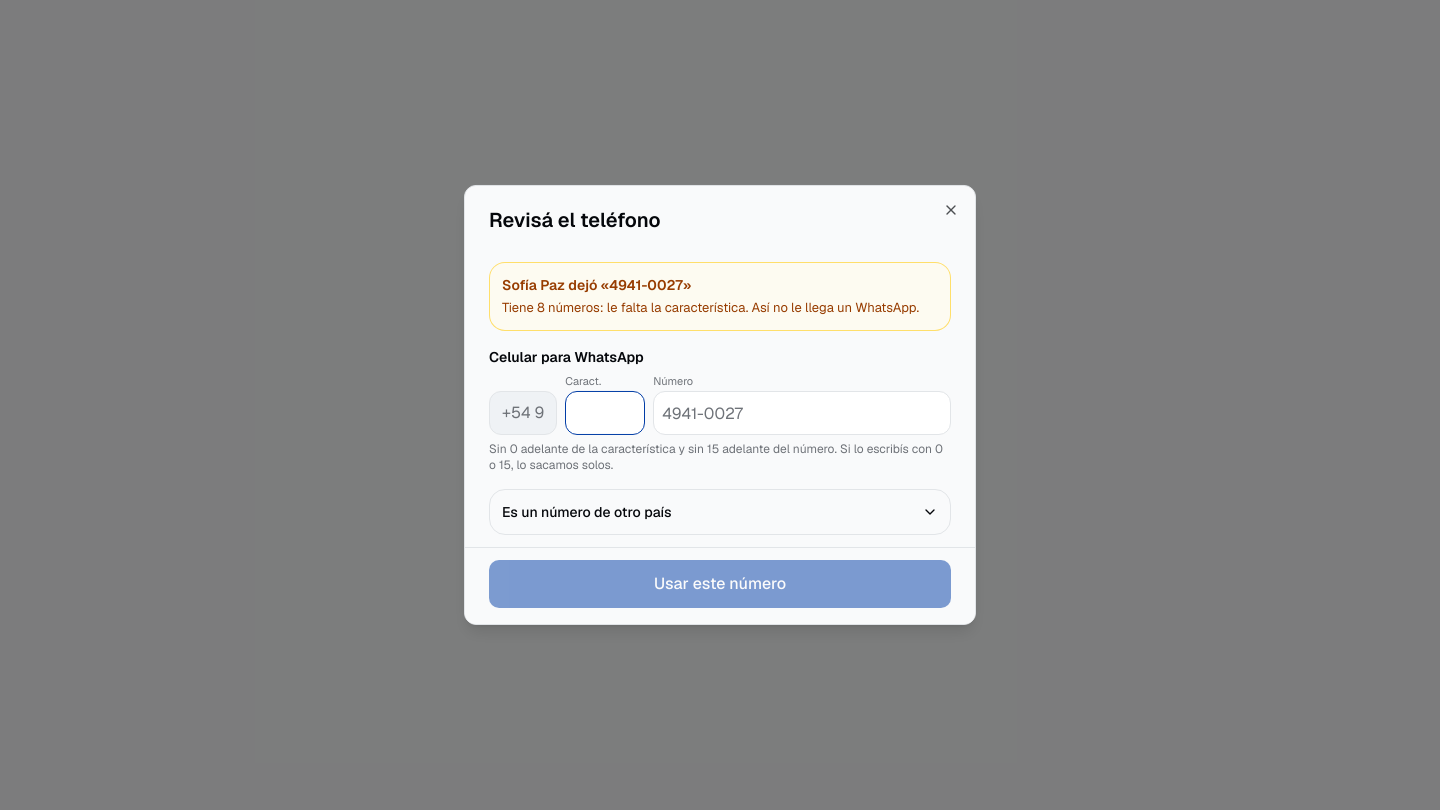
it: AgendarDesdeConsulta › número de otro país: solo se acepta empezando con +
The image size is (1440, 810).
Click the button "Es un número de otro país" at (587, 512), box [490, 490, 950, 534]
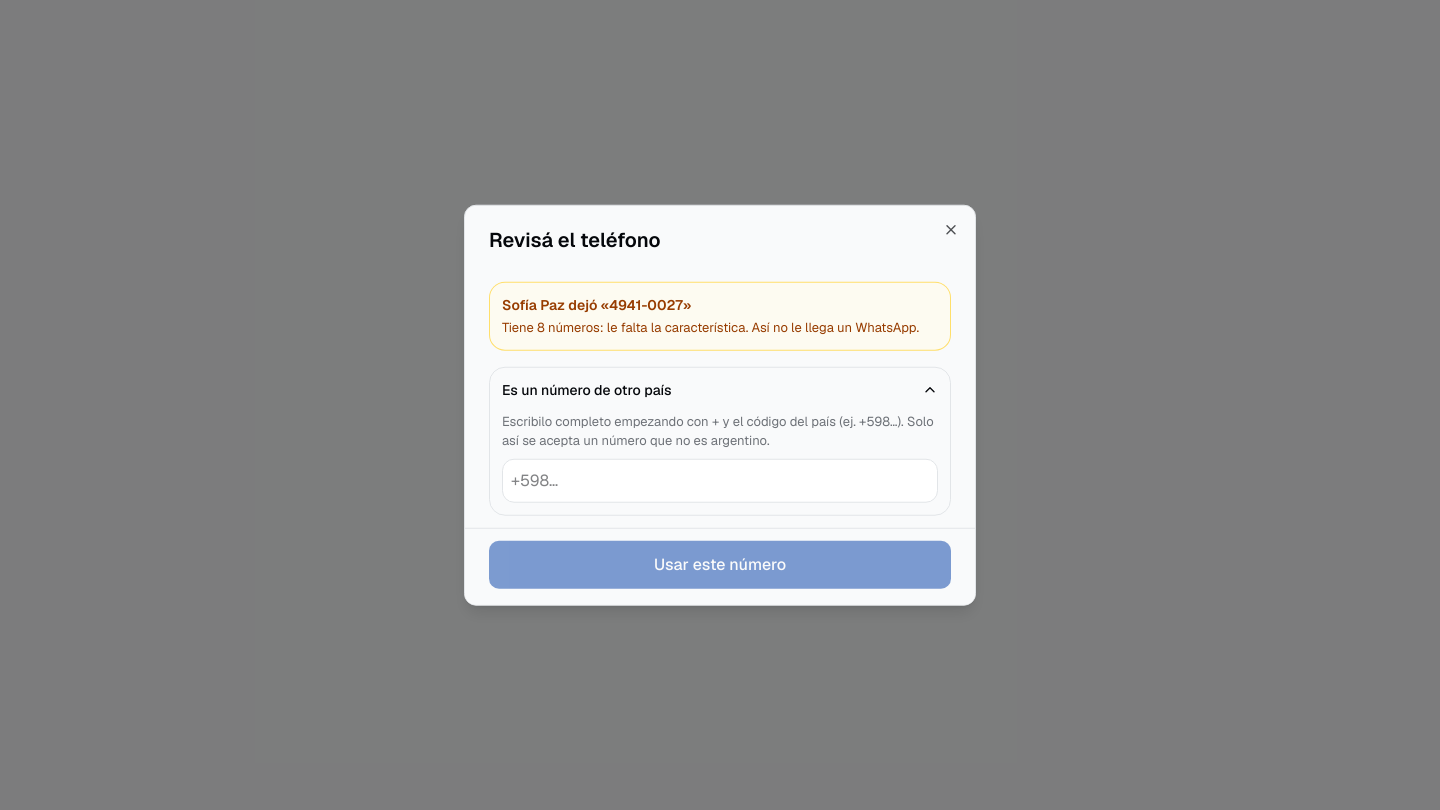
Type "59899123456" into the field named "Número completo con código de país" at (720, 480), box [502, 458, 938, 502]
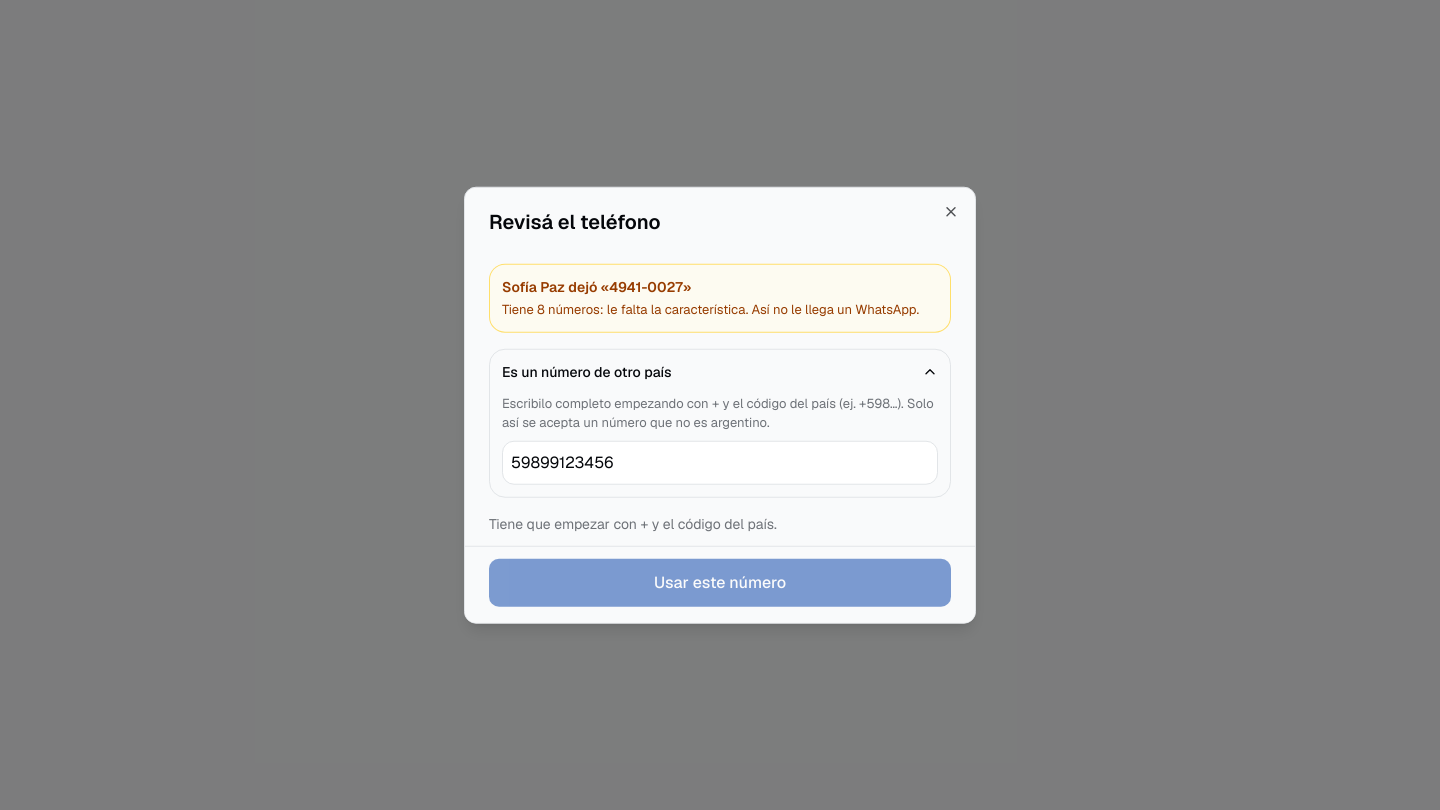
Expected: the button "Usar este número" is disabled, [489, 558, 951, 606]
Replace the text in the field named "Número completo con código de país" with "+598 99 123 456" at (720, 462), box [502, 440, 938, 484]
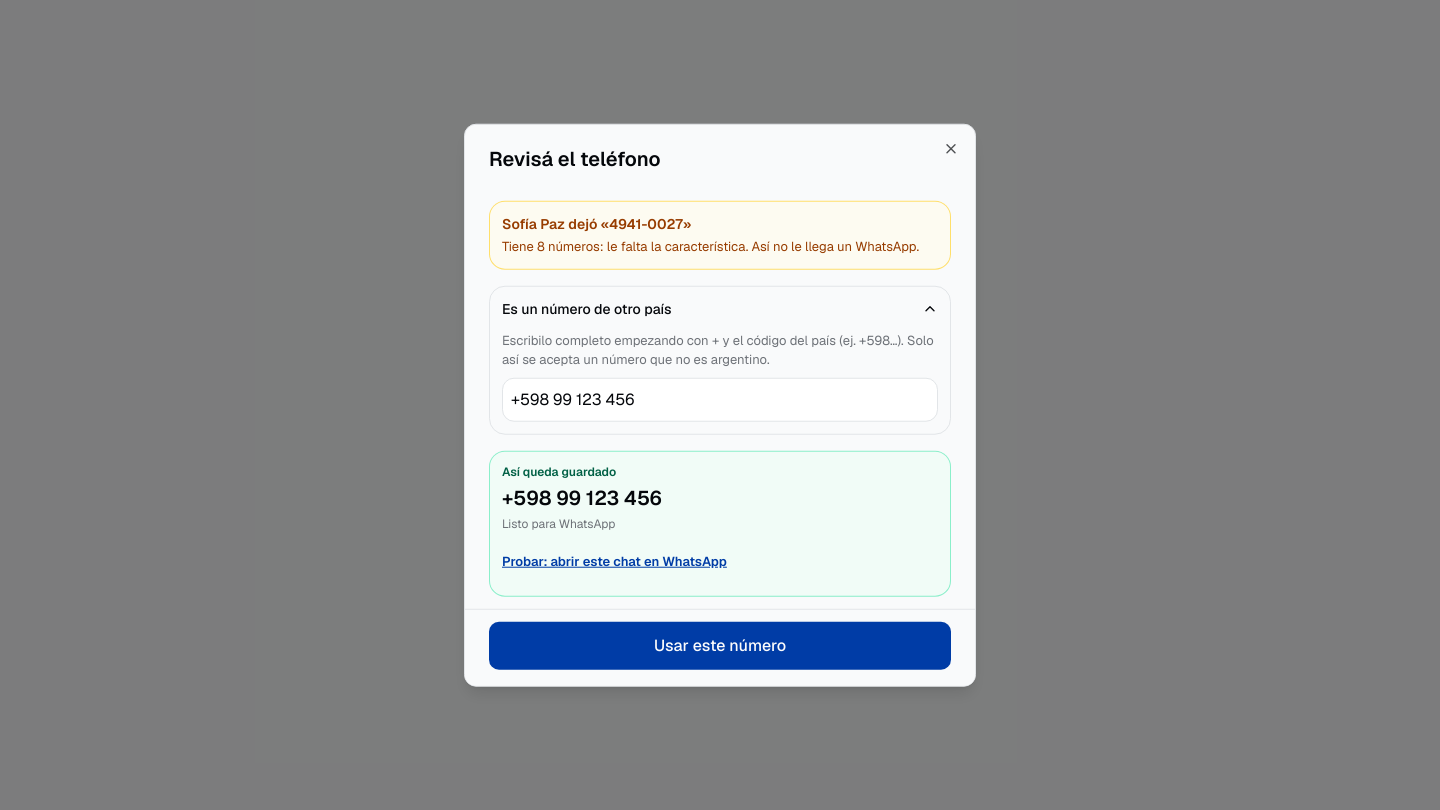
Result: the button "Usar este número" is enabled at [489, 621, 951, 669]
